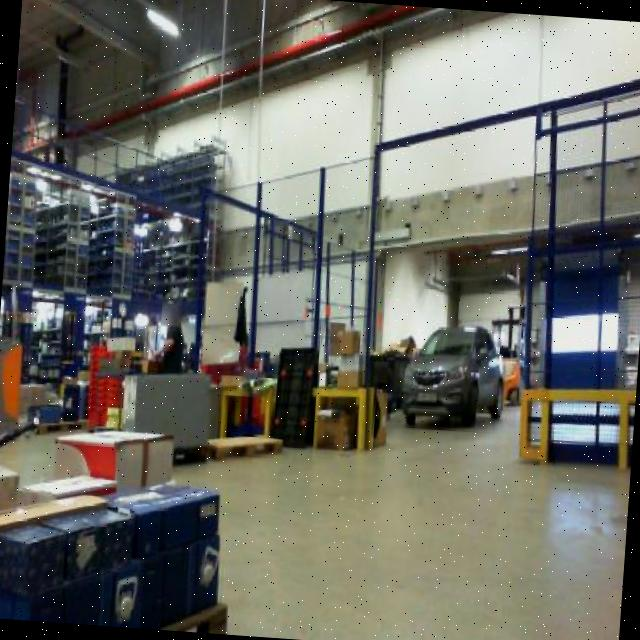pallet: (202, 426, 288, 472)
